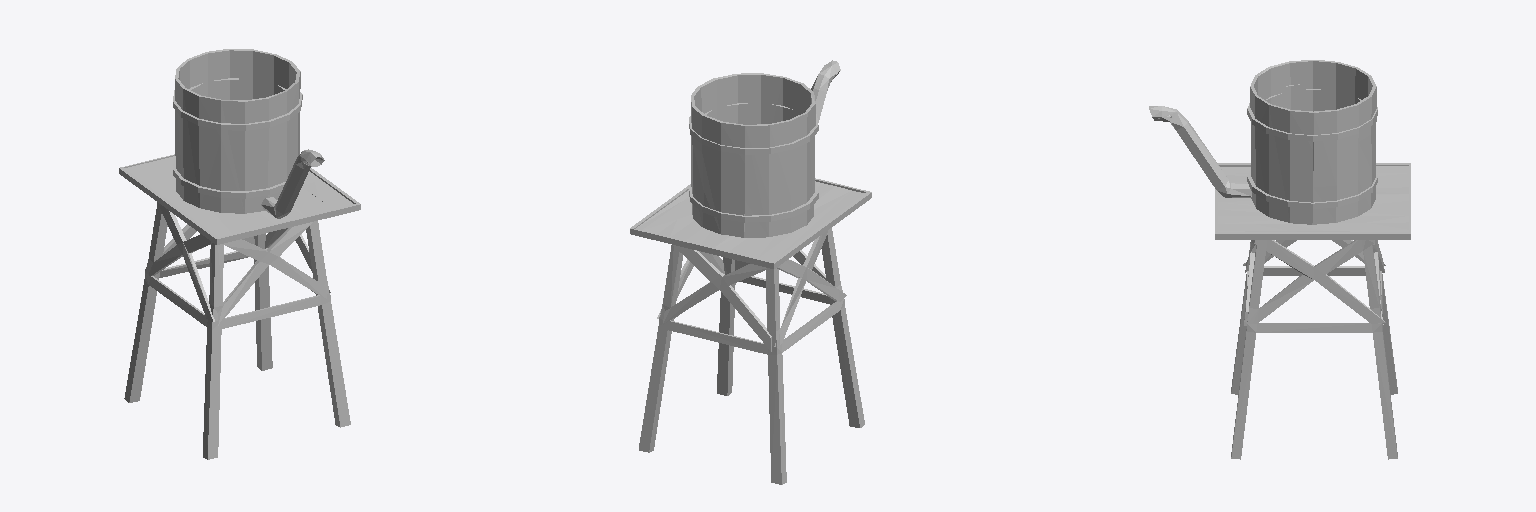
File: WaterTower_LOD1.obj
The picture shows the model from 3 angles: view 1: azimuth 30°, elevation 25°; view 2: azimuth 150°, elevation 25°; view 3: azimuth 270°, elevation 25°; orthographic projection.
Visible parts, largest first — view 1: WaterTower; view 2: WaterTower; view 3: WaterTower.
Boxes of the visible parts, <box> form: WaterTower: <box>119,49,360,459</box>; WaterTower: <box>630,60,871,484</box>; WaterTower: <box>1149,60,1410,459</box>.
Size of the model in its own units: 3.4 by 7.55 by 5.28.